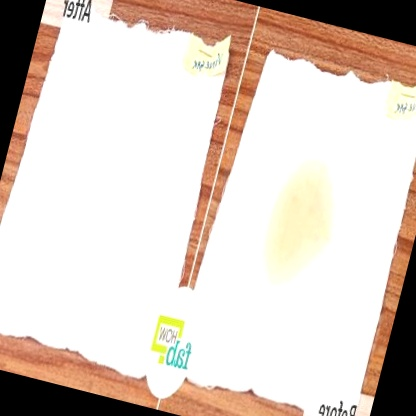coffee: (262, 161, 341, 271)
